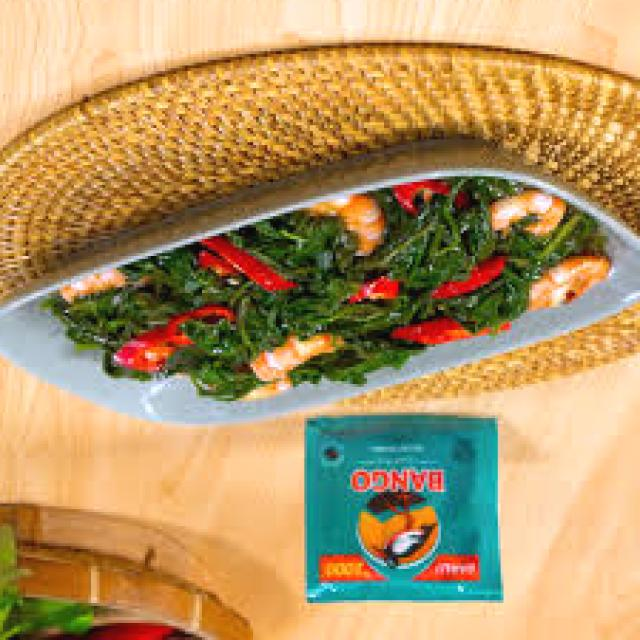tumis kangkung: (37, 165, 614, 404)
